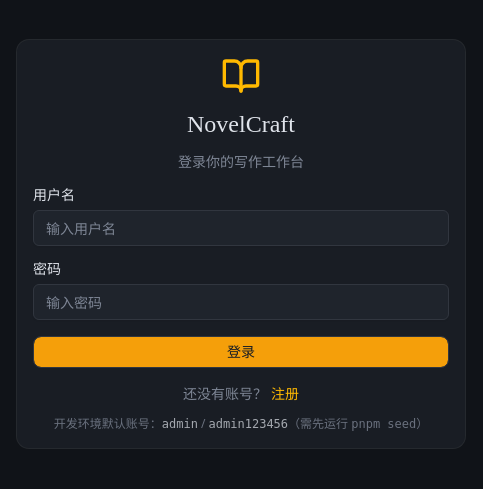
it: LoginPage › switches back to login mode on toggle click from register
Click the button "注册" at point(285, 394), box [271,384,299,404]
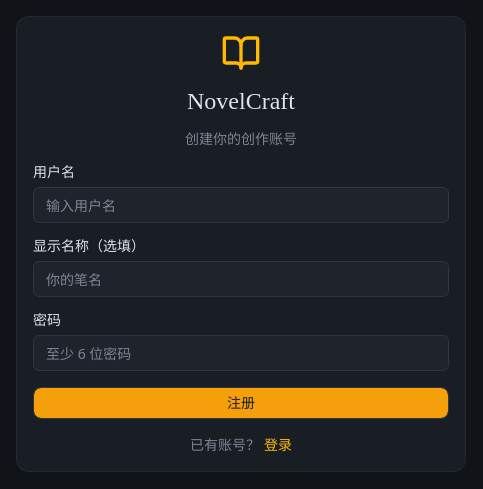
Click the button "登录" at point(278, 445), box [264,435,292,455]
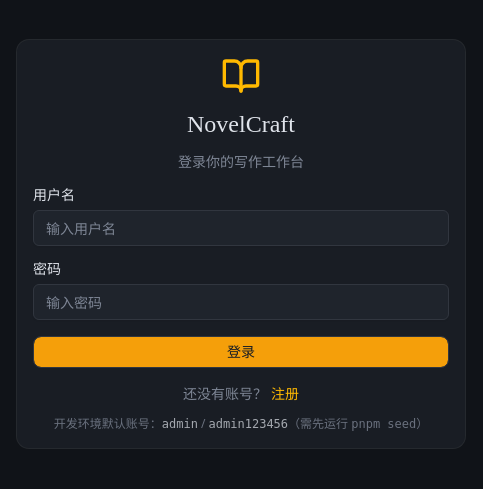
Check: the text "登录你的写作工作台" is shown, box [178,152,304,171]
Check: the button "登录" is shown, box [33,336,449,368]
